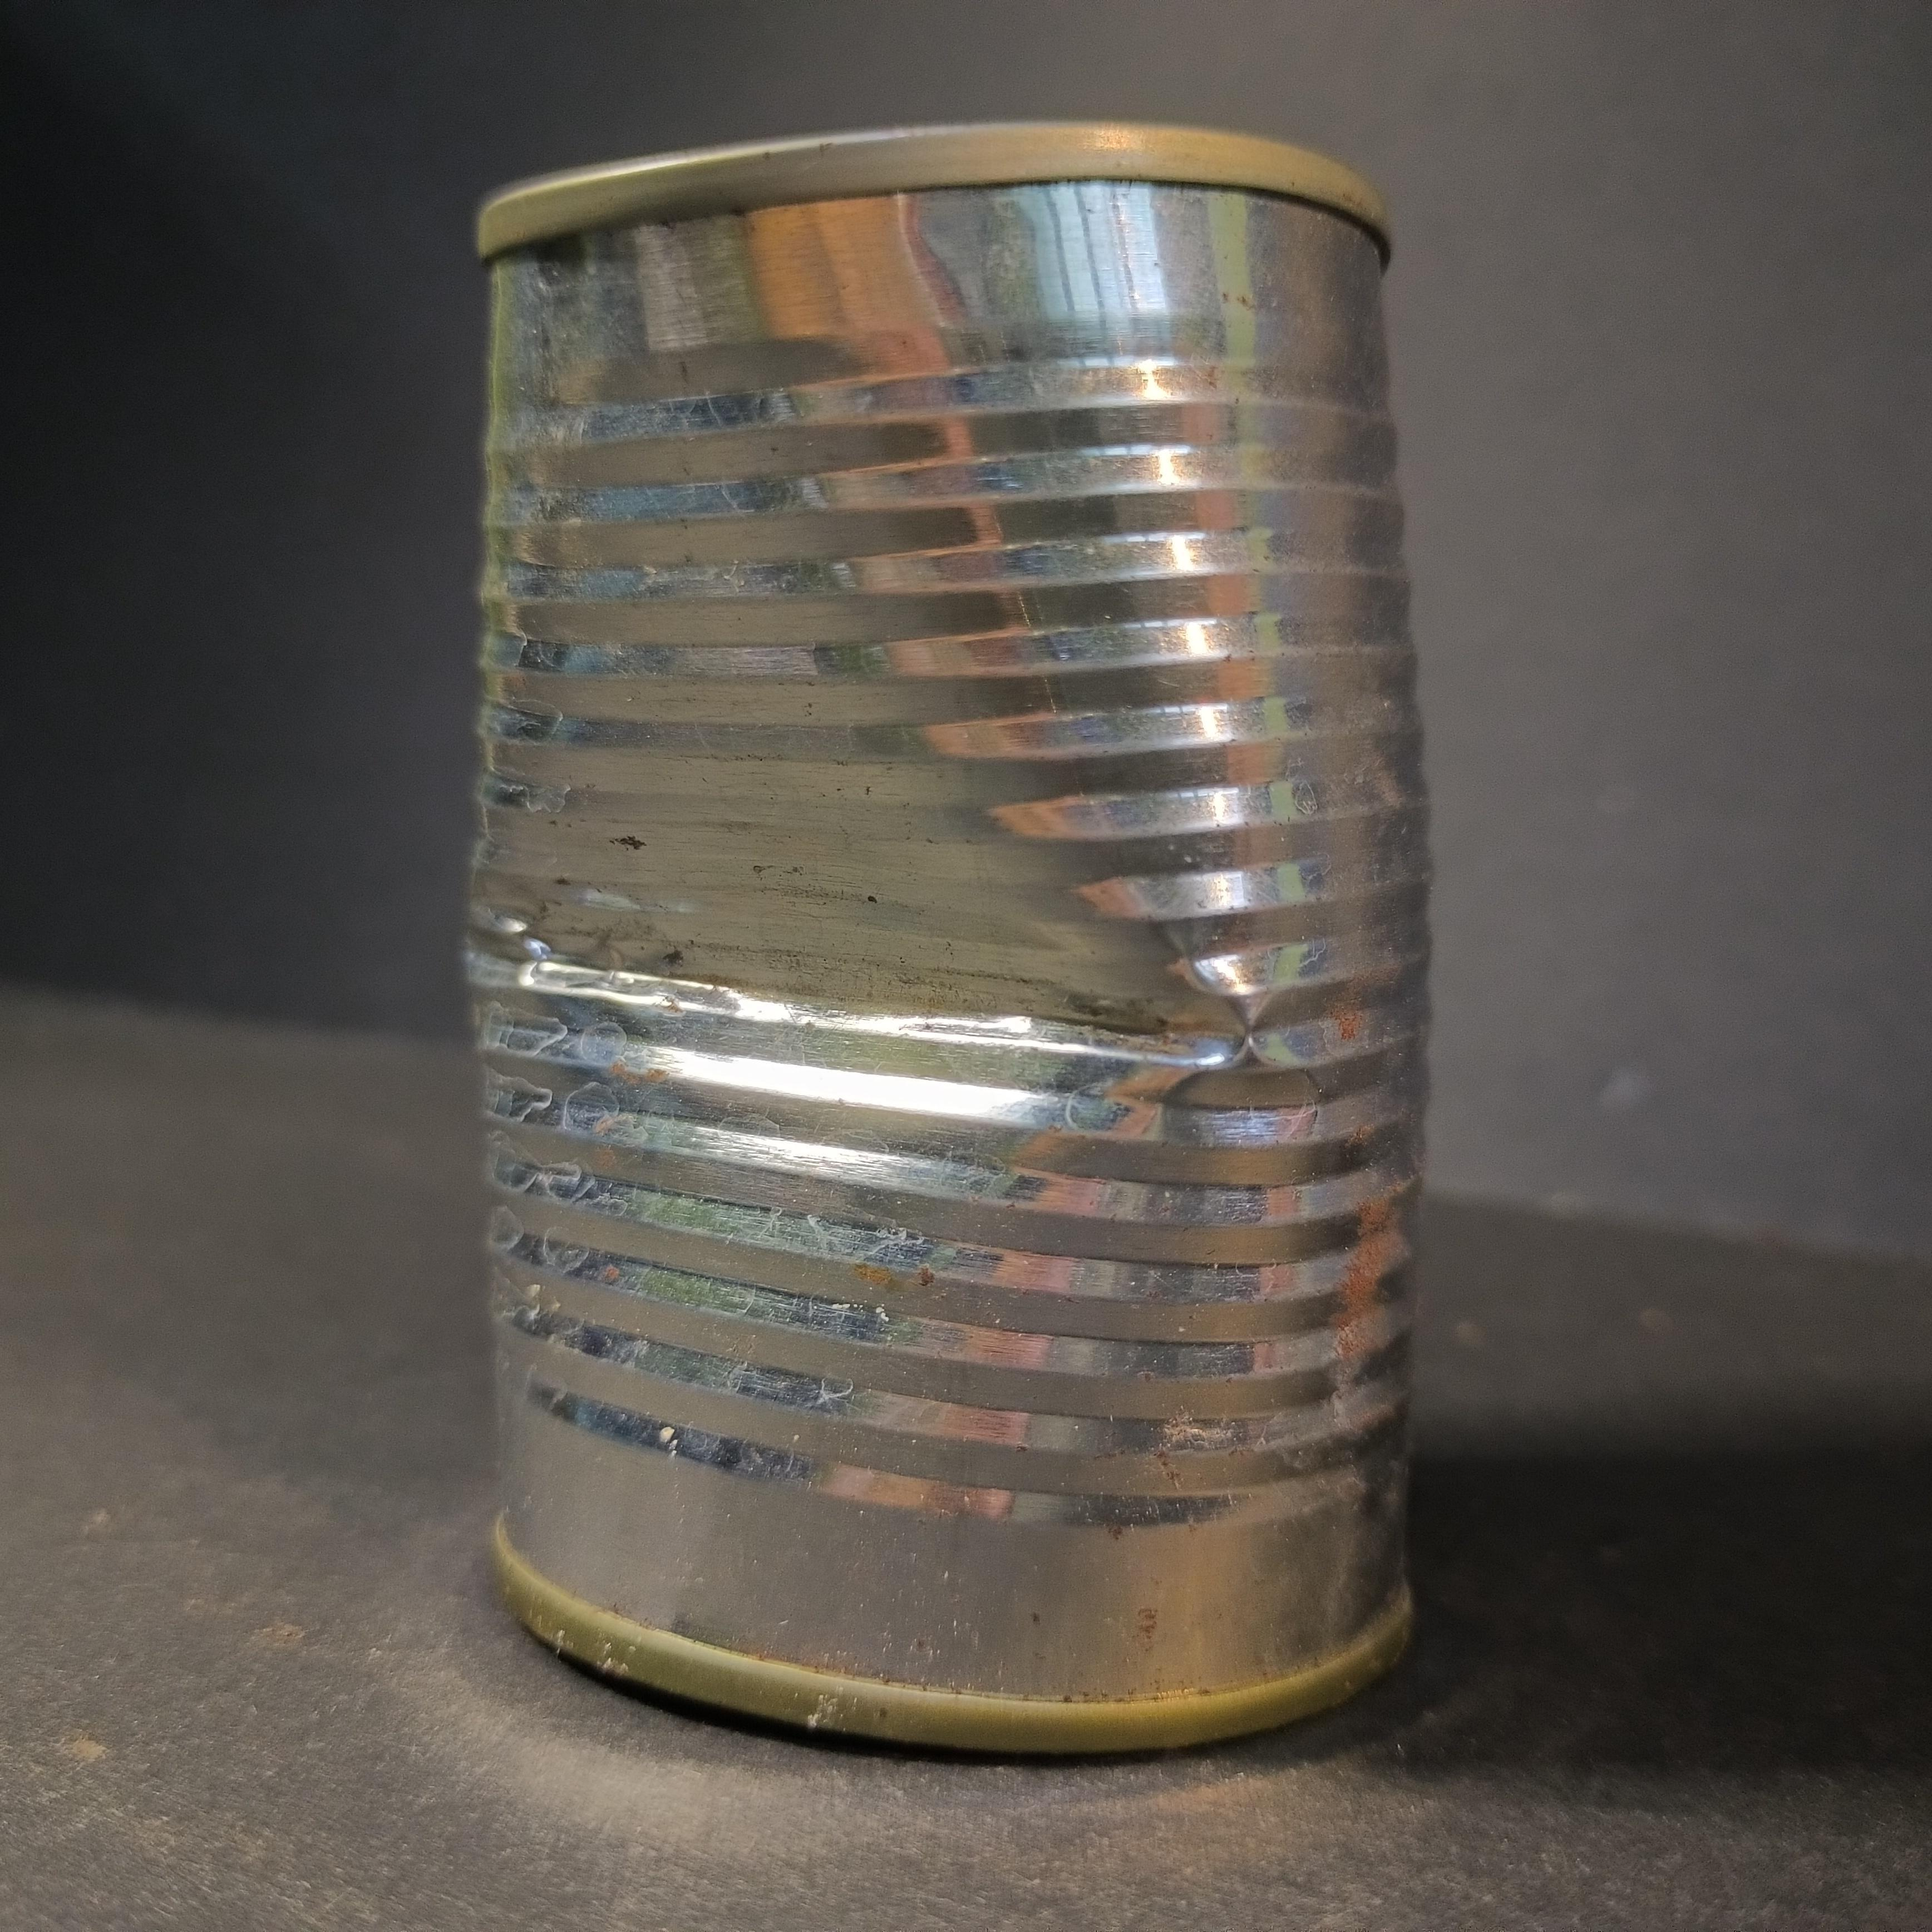Dented: (387, 73, 1483, 1813)
